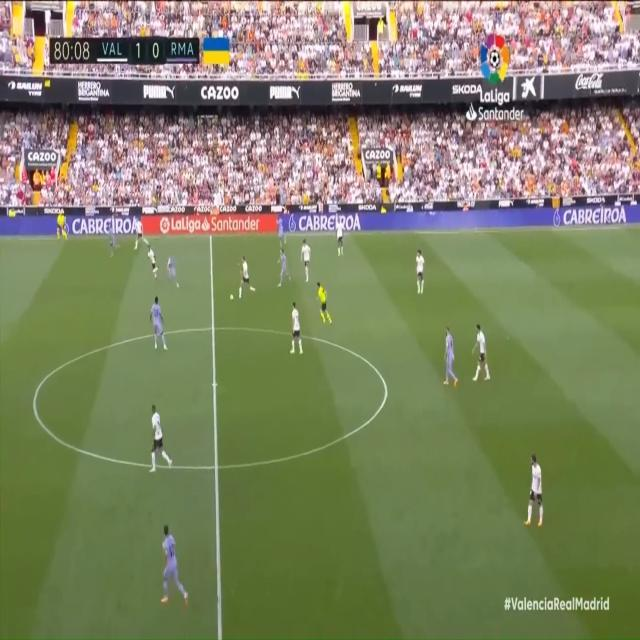ball: (228, 292, 236, 304)
player: (160, 519, 191, 610), (147, 402, 176, 476), (524, 455, 547, 529), (146, 295, 167, 355), (472, 322, 492, 382), (441, 326, 459, 390), (289, 296, 304, 357), (239, 252, 258, 299), (128, 214, 151, 252), (414, 246, 428, 299), (104, 218, 120, 263), (332, 215, 347, 262), (277, 243, 293, 286), (165, 248, 181, 290), (143, 243, 160, 282), (301, 241, 312, 284), (276, 217, 290, 250)
referee: (316, 282, 335, 327), (55, 206, 67, 243)
